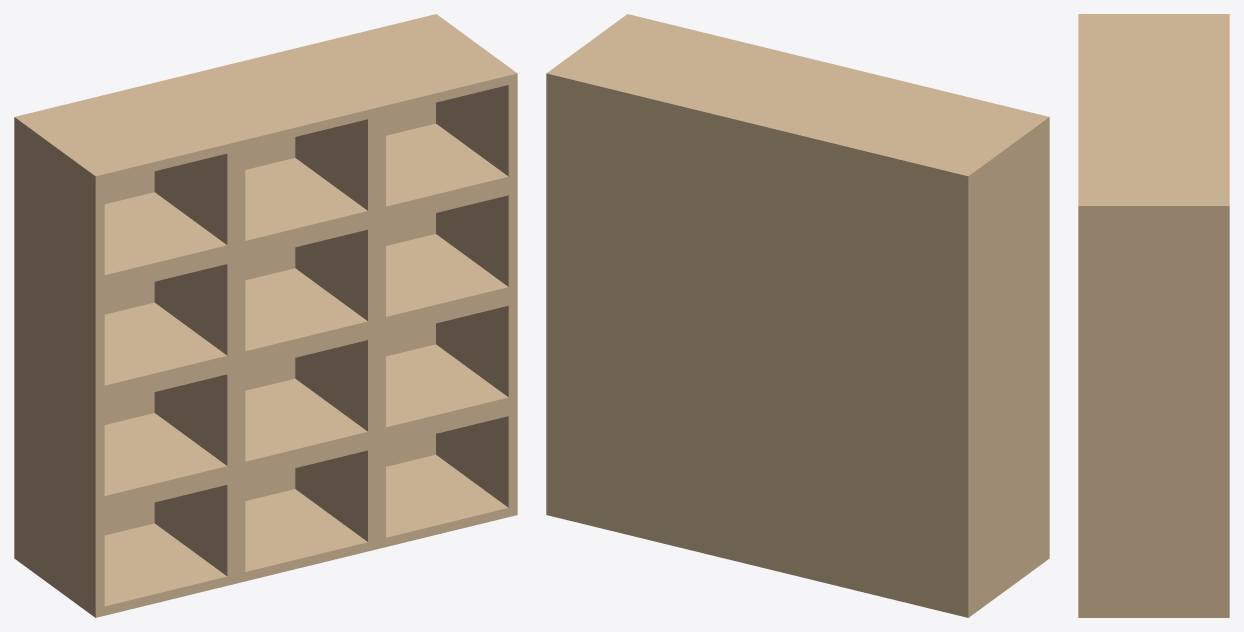
The model's file is Shelf_2.fbx.
3 renders of one model, left to right at view 1: azimuth 30°, elevation 25°; view 2: azimuth 150°, elevation 25°; view 3: azimuth 270°, elevation 25°, orthographic. The views are drawn at different scales.
Parts seen in each view (by area): view 1: Shelf_2; view 2: Shelf_2; view 3: Shelf_2.
Boxes of the visible parts, x1,y1,x2,y2 form: Shelf_2: [14, 14, 517, 617]; Shelf_2: [546, 14, 1049, 617]; Shelf_2: [1078, 14, 1229, 617].
Bounding box in the file's own units: 150 × 150 × 50.
